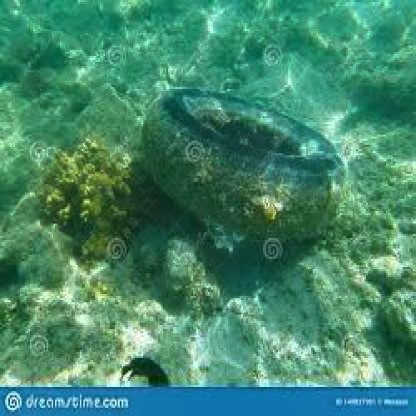tire: (138, 68, 368, 263)
